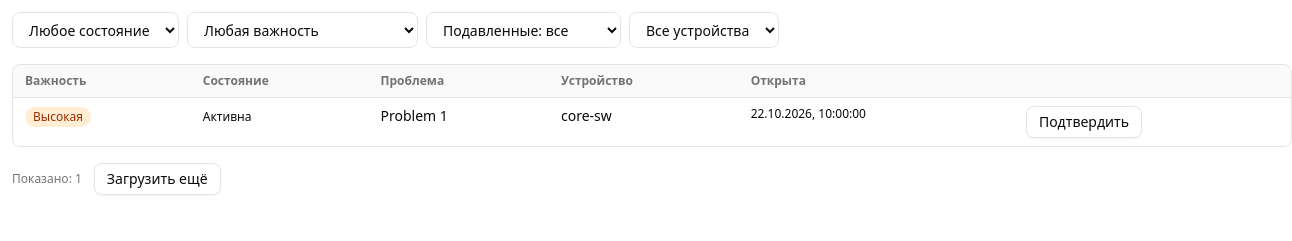
ProblemList › pages with the cursor
Click the button "Загрузить ещё" at (157, 179), box x1=94 y1=163 x2=220 y2=195
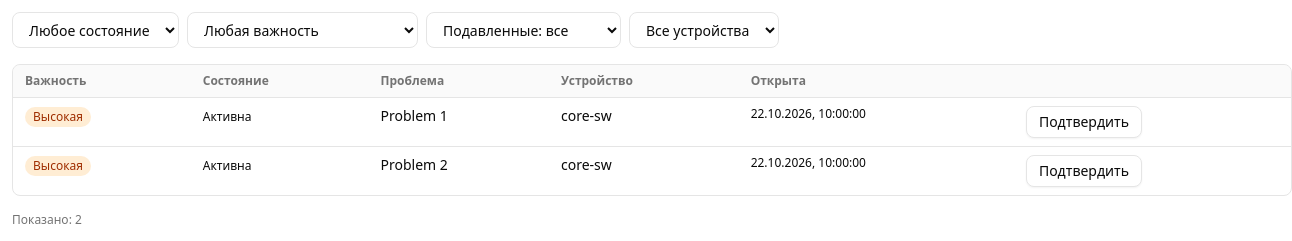
Check: the text "Problem 2" is shown, box x1=381 y1=155 x2=448 y2=174
